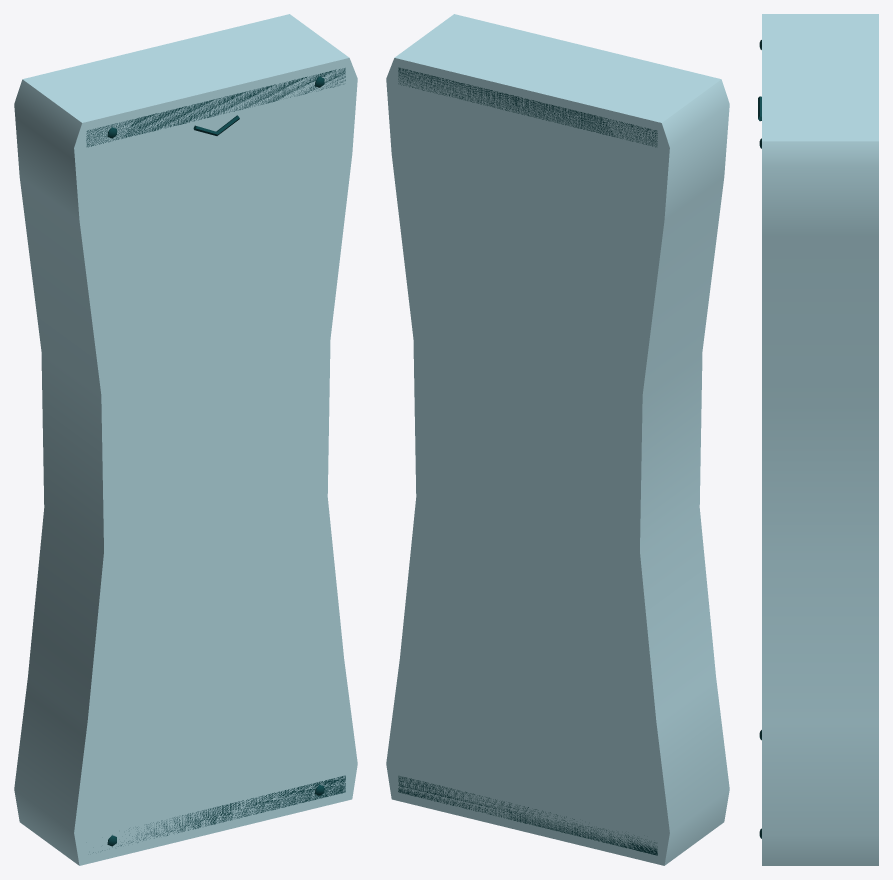
File: water_timer.obj
The picture shows the model from 3 angles, left to right: view 1: azimuth 30°, elevation 25°; view 2: azimuth 150°, elevation 25°; view 3: azimuth 270°, elevation 25°; orthographic projection. The views are drawn at different scales.
Parts seen in each view (by area): view 1: water_timer_case_0, water_timer_case_1; view 2: water_timer_case_0, water_timer_case_1; view 3: water_timer_case_0.
Boxes of the visible parts, x1,y1,x2,y2 form: water_timer_case_0: [14, 14, 357, 865]; water_timer_case_1: [86, 68, 345, 852]; water_timer_case_0: [386, 14, 729, 865]; water_timer_case_1: [398, 67, 657, 855]; water_timer_case_0: [762, 14, 878, 865].
Bounding box in the file's own units: 0.104 × 0.26 × 0.0393.
